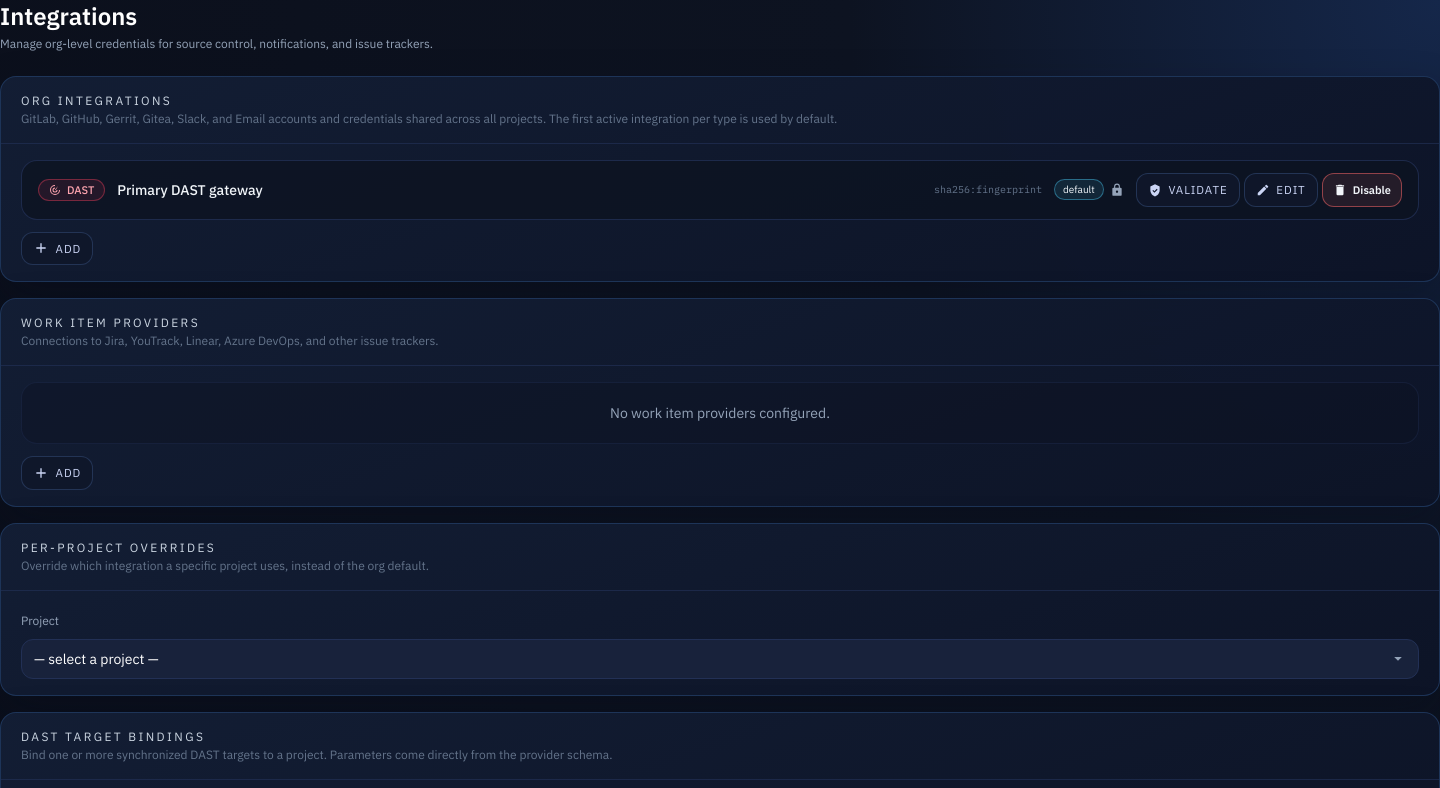
it: OrgIntegrationsPage — DAST integration › requires the integrator token before a changed DAST connection can be saved
Click the button "Edit" at (1281, 190), box [1244,173,1318,207]
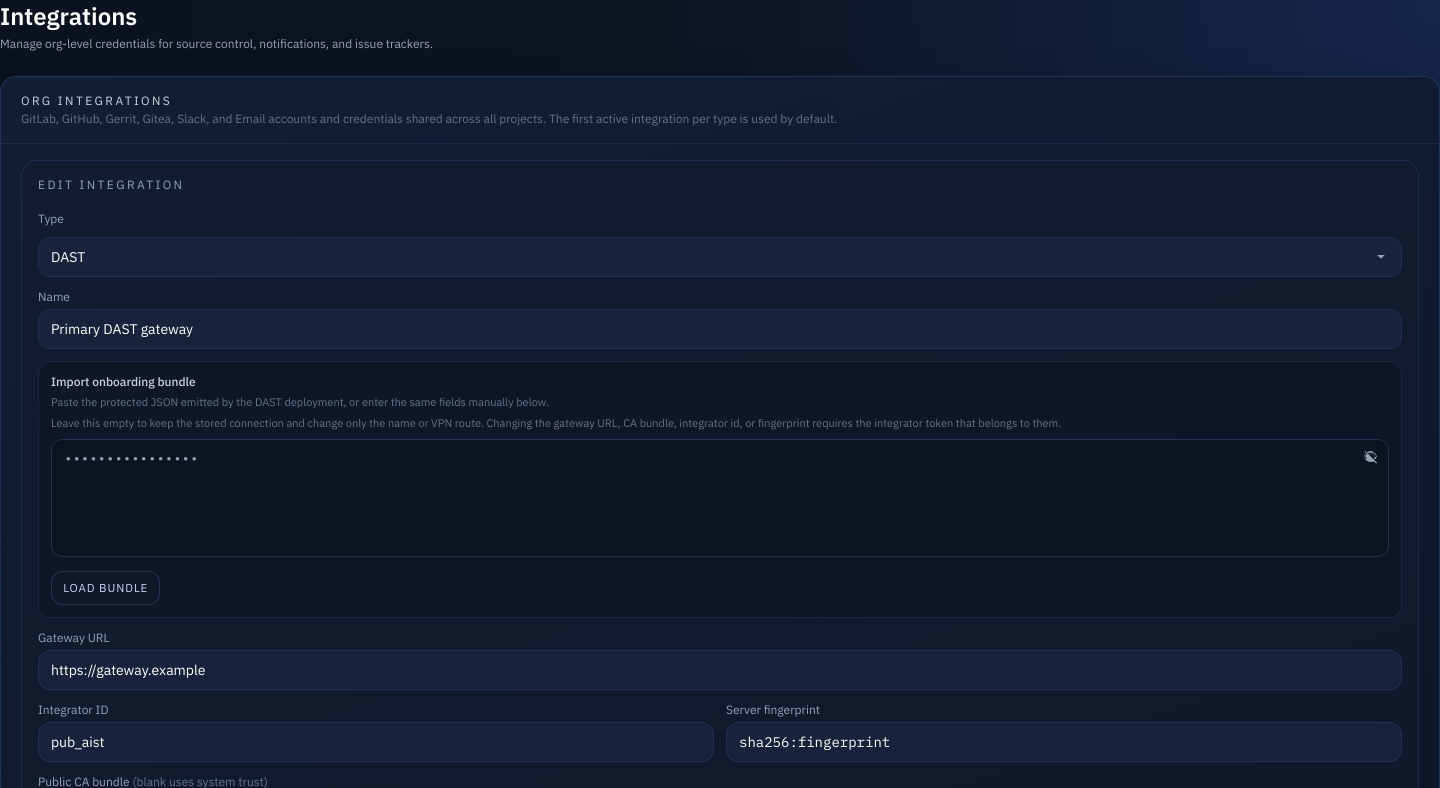
Replace the text in the field showing "https://gateway.example" with "https://moved-gateway.example:8443" at (720, 670), box [38,650,1402,690]
(page scrolled)
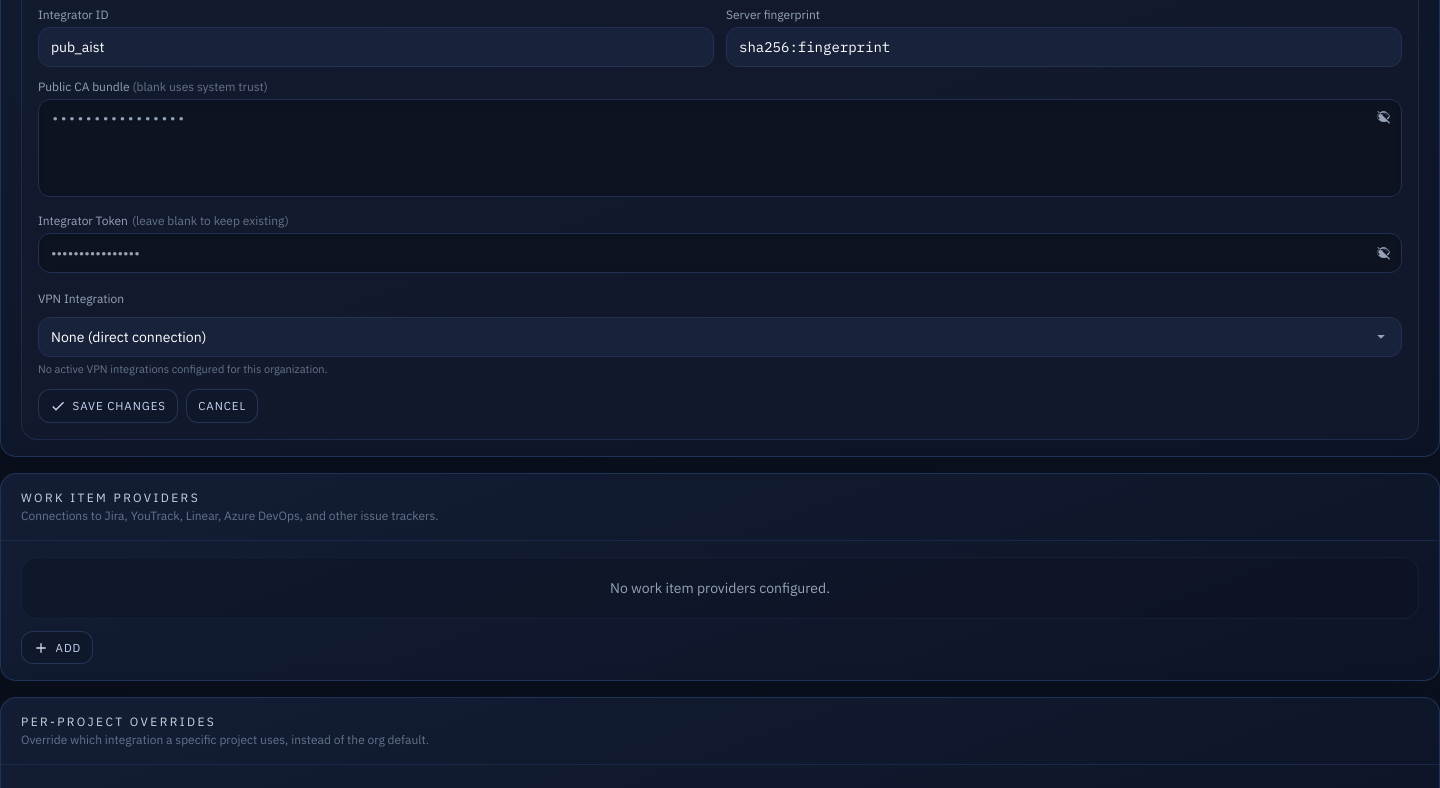
Check: the button "Save changes" is disabled, box [38,389,178,423]
